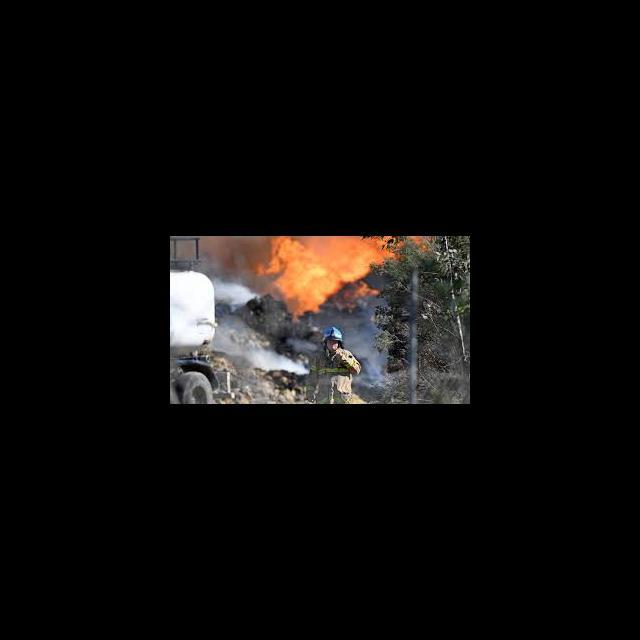Fire: (254, 236, 432, 321)
